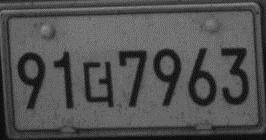1: (48, 49, 81, 110)
3: (217, 46, 251, 105)
6: (186, 47, 216, 106)
7: (116, 48, 149, 108)
9: (152, 48, 183, 108), (15, 51, 46, 110)
더: (81, 60, 115, 108)
